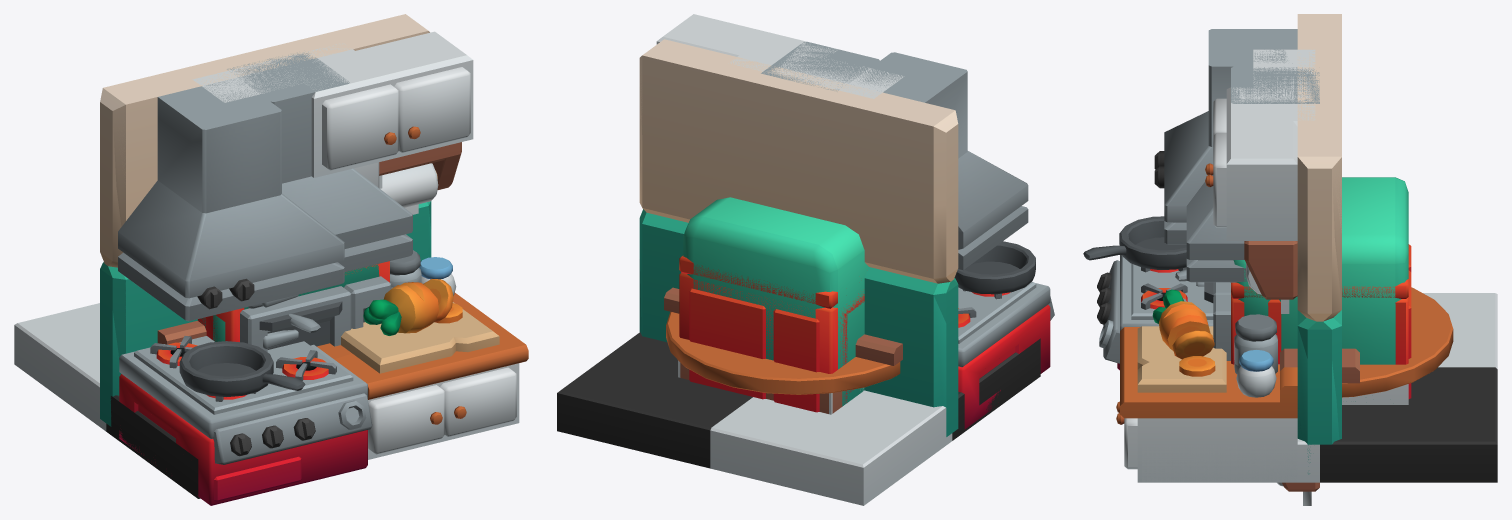
The model's file is restaurant.glb.
3 renders of one model, left to right at view 1: azimuth 30°, elevation 25°; view 2: azimuth 150°, elevation 25°; view 3: azimuth 270°, elevation 25°, orthographic. The views are drawn at different scales.
Parts seen in each view (by area): view 1: wall_decorated, wall, extractorhood, wall_doorway, floor_kitchen, oven_door, wall_orderwindow, kitchencabinet, wall_window_open, oven, fridge_A_door_top, fridge_A_door_bottom; view 2: floor_kitchen, wall, wall_doorway, wall_decorated, wall_orderwindow, fridge_A, oven, wall_window_open, table_round_A, kitchencabinet, extractorhood, crate; view 3: wall_decorated, floor_kitchen, wall, fridge_A, wall_doorway, extractorhood, wall_window_open, table_round_A, oven, kitchencabinet, wall_orderwindow, kitchencounter_straight_A (+3 smaller).
Boxes of the visible parts, x1,y1,x2,y2 form: wall_decorated: (118,31,528,505); wall: (100,14,431,426); extractorhood: (227,52,412,271); wall_doorway: (100,15,431,424); floor_kitchen: (14,303,200,498); oven_door: (240,286,351,351); wall_orderwindow: (105,15,428,352); kitchencabinet: (192,43,382,188); wall_window_open: (100,180,431,426); oven: (198,261,391,341); fridge_A_door_top: (244,264,379,309); fridge_A_door_bottom: (213,315,298,349); floor_kitchen: (557,332,1040,505); wall: (639,39,958,436); wall_doorway: (639,39,958,414); wall_decorated: (656,14,1054,429); wall_orderwindow: (642,39,951,402); fridge_A: (683,197,868,406); oven: (679,255,864,412); wall_window_open: (639,137,958,433); table_round_A: (666,311,900,394); kitchencabinet: (728,41,904,98); extractorhood: (761,41,879,91); crate: (680,363,842,413); wall_decorated: (1083,29,1297,482); floor_kitchen: (1142,293,1497,482); wall: (1297,14,1341,459); fridge_A: (1279,177,1408,401); wall_doorway: (1297,14,1341,324); extractorhood: (1186,66,1319,282); wall_window_open: (1297,237,1341,473); table_round_A: (1275,287,1453,397); oven: (1213,244,1411,398); kitchencabinet: (1253,49,1315,126); wall_orderwindow: (1280,14,1359,383); kitchencounter_straight_A: (1342,364,1408,404).
Size of the model in its own units: 4.01 by 4.91 by 4.66.
1 material, 1 textured.
